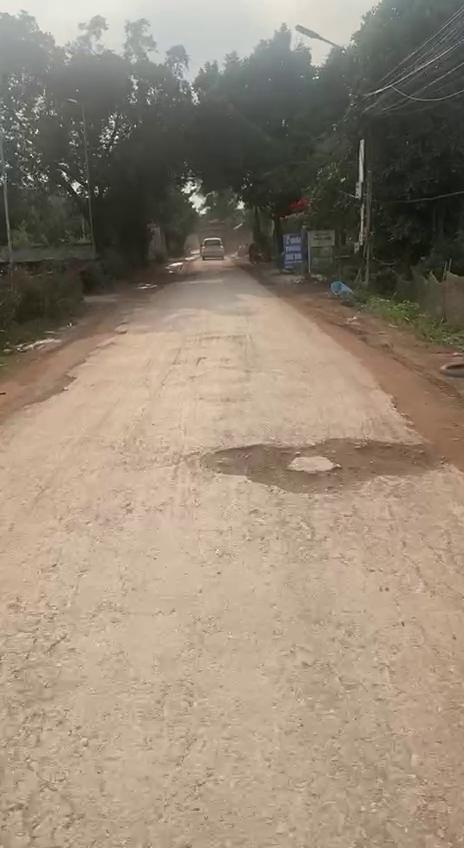pothole: (195, 433, 451, 506)
